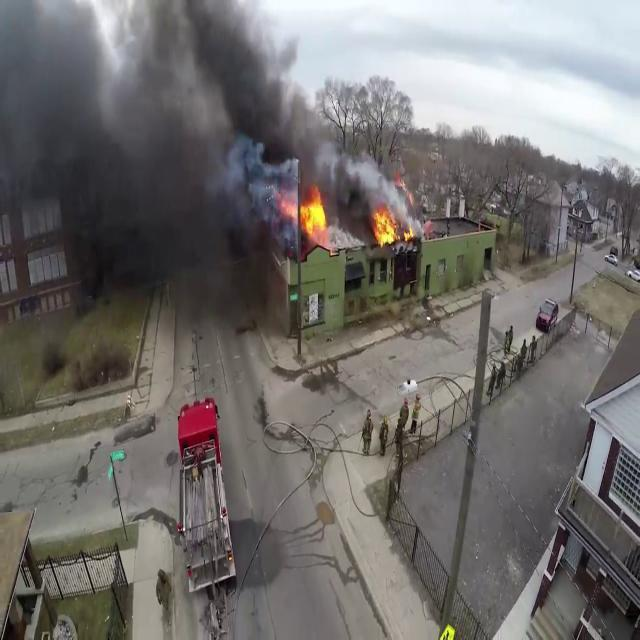Fire: (294, 184, 328, 244), (372, 203, 404, 250)
Smoke: (0, 0, 370, 342)
